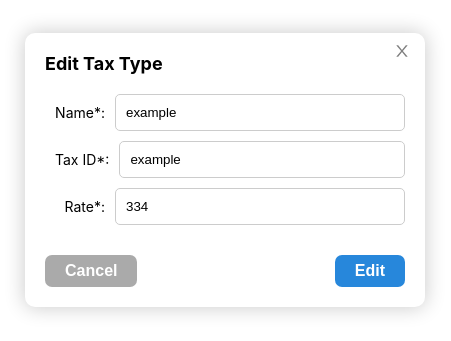
Test: Tax Add/Edit › should validate input fields on Edit - name
Clear the field named "input-field" next to "Name*:" at (260, 112), box [115, 94, 405, 131]
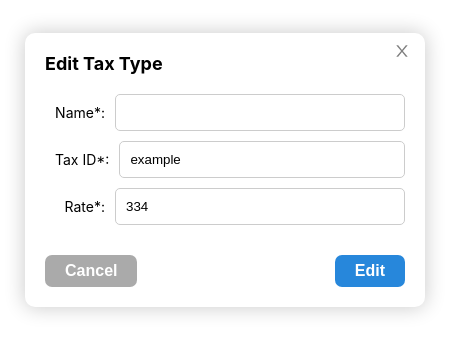
Click the button with aria-label "primary-button".
click(370, 271)  # box [335, 255, 405, 287]
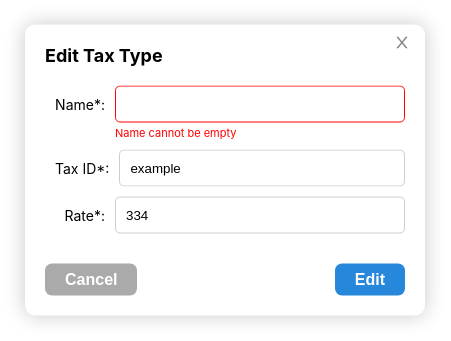
Check: the text "Name cannot be empty" is shown, box [115, 126, 236, 140]
